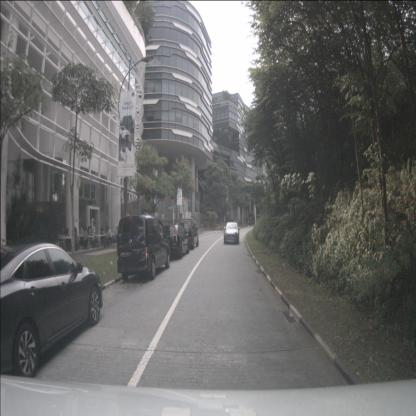human-pedestrian-adult: (83, 226, 89, 250), (64, 228, 70, 251), (100, 227, 106, 248), (73, 226, 78, 251), (107, 226, 112, 247), (79, 223, 83, 246), (87, 226, 91, 246), (115, 226, 119, 243)
vehicle-car: (0, 242, 104, 381), (116, 214, 170, 282), (162, 224, 190, 260), (178, 221, 198, 250), (224, 222, 239, 244)
